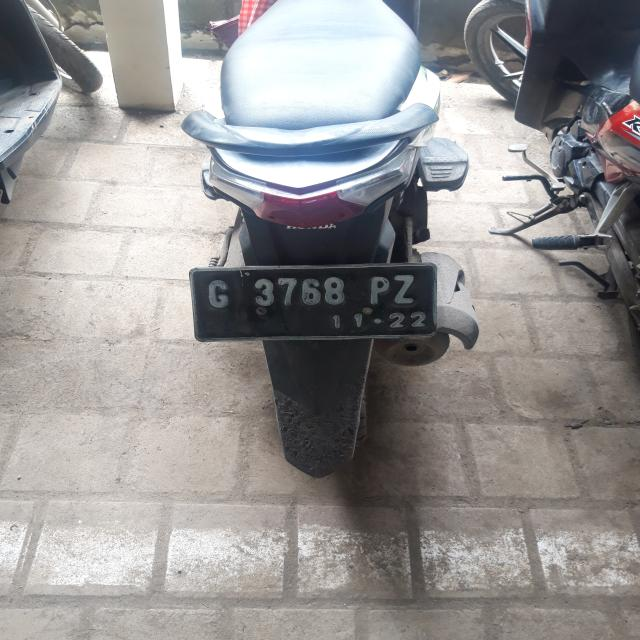plate: (188, 267, 436, 340)
